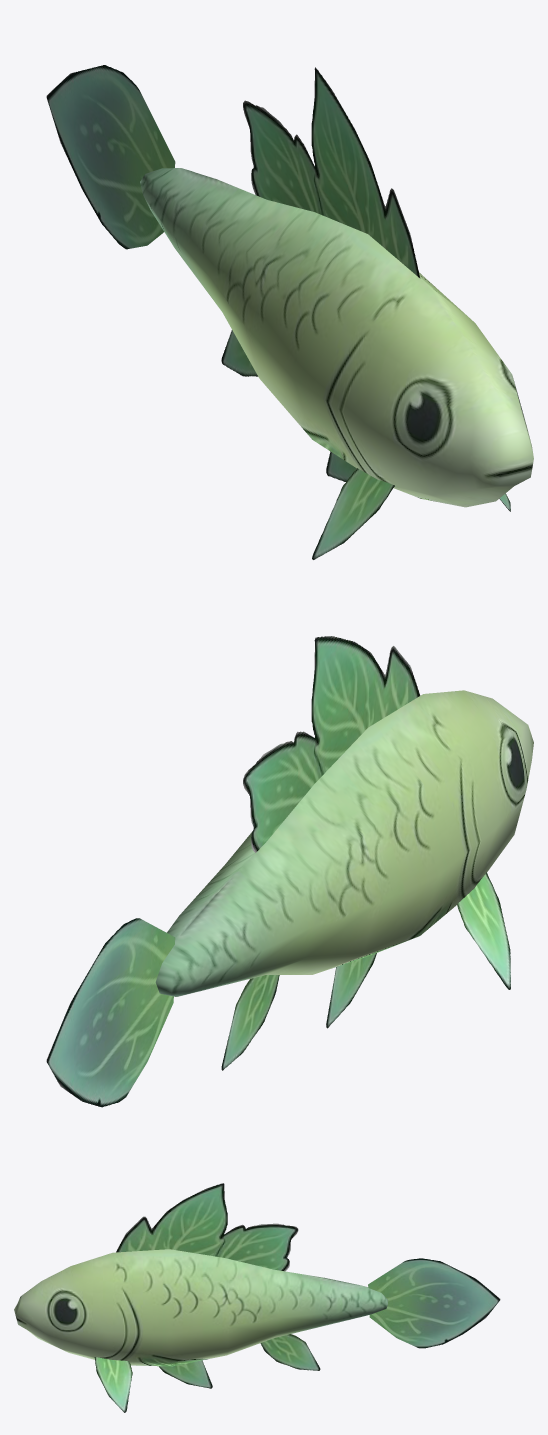
File: Leaf_Fish.fbx
The picture shows the model from 3 angles, top to bottom: view 1: azimuth 30°, elevation 25°; view 2: azimuth 150°, elevation 25°; view 3: azimuth 270°, elevation 25°; orthographic projection. The views are drawn at different scales.
Parts seen in each view (by area): view 1: Sphere.001; view 2: Sphere.001; view 3: Sphere.001.
Part boxes in pixels (bbox=[...]): Sphere.001: bbox=[46, 65, 533, 559]; Sphere.001: bbox=[46, 636, 533, 1107]; Sphere.001: bbox=[14, 1183, 500, 1412].
Size of the model in its own units: 62.36 by 126 by 257.
1 material, 1 textured.
